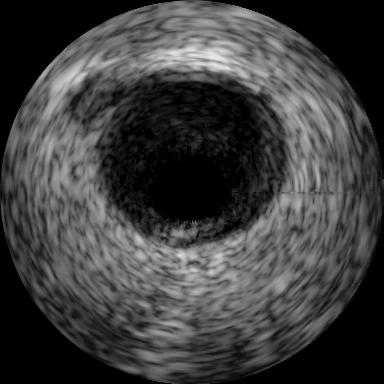Lumen: (145, 150, 235, 224)
